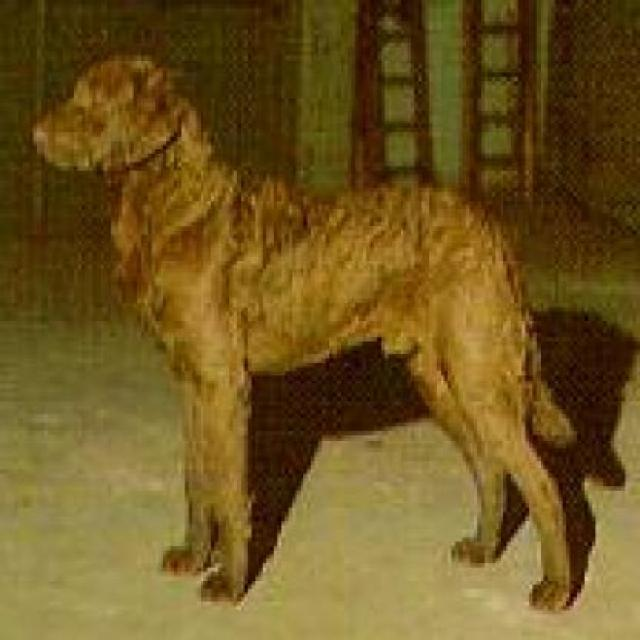Dog: (34, 54, 586, 623)
